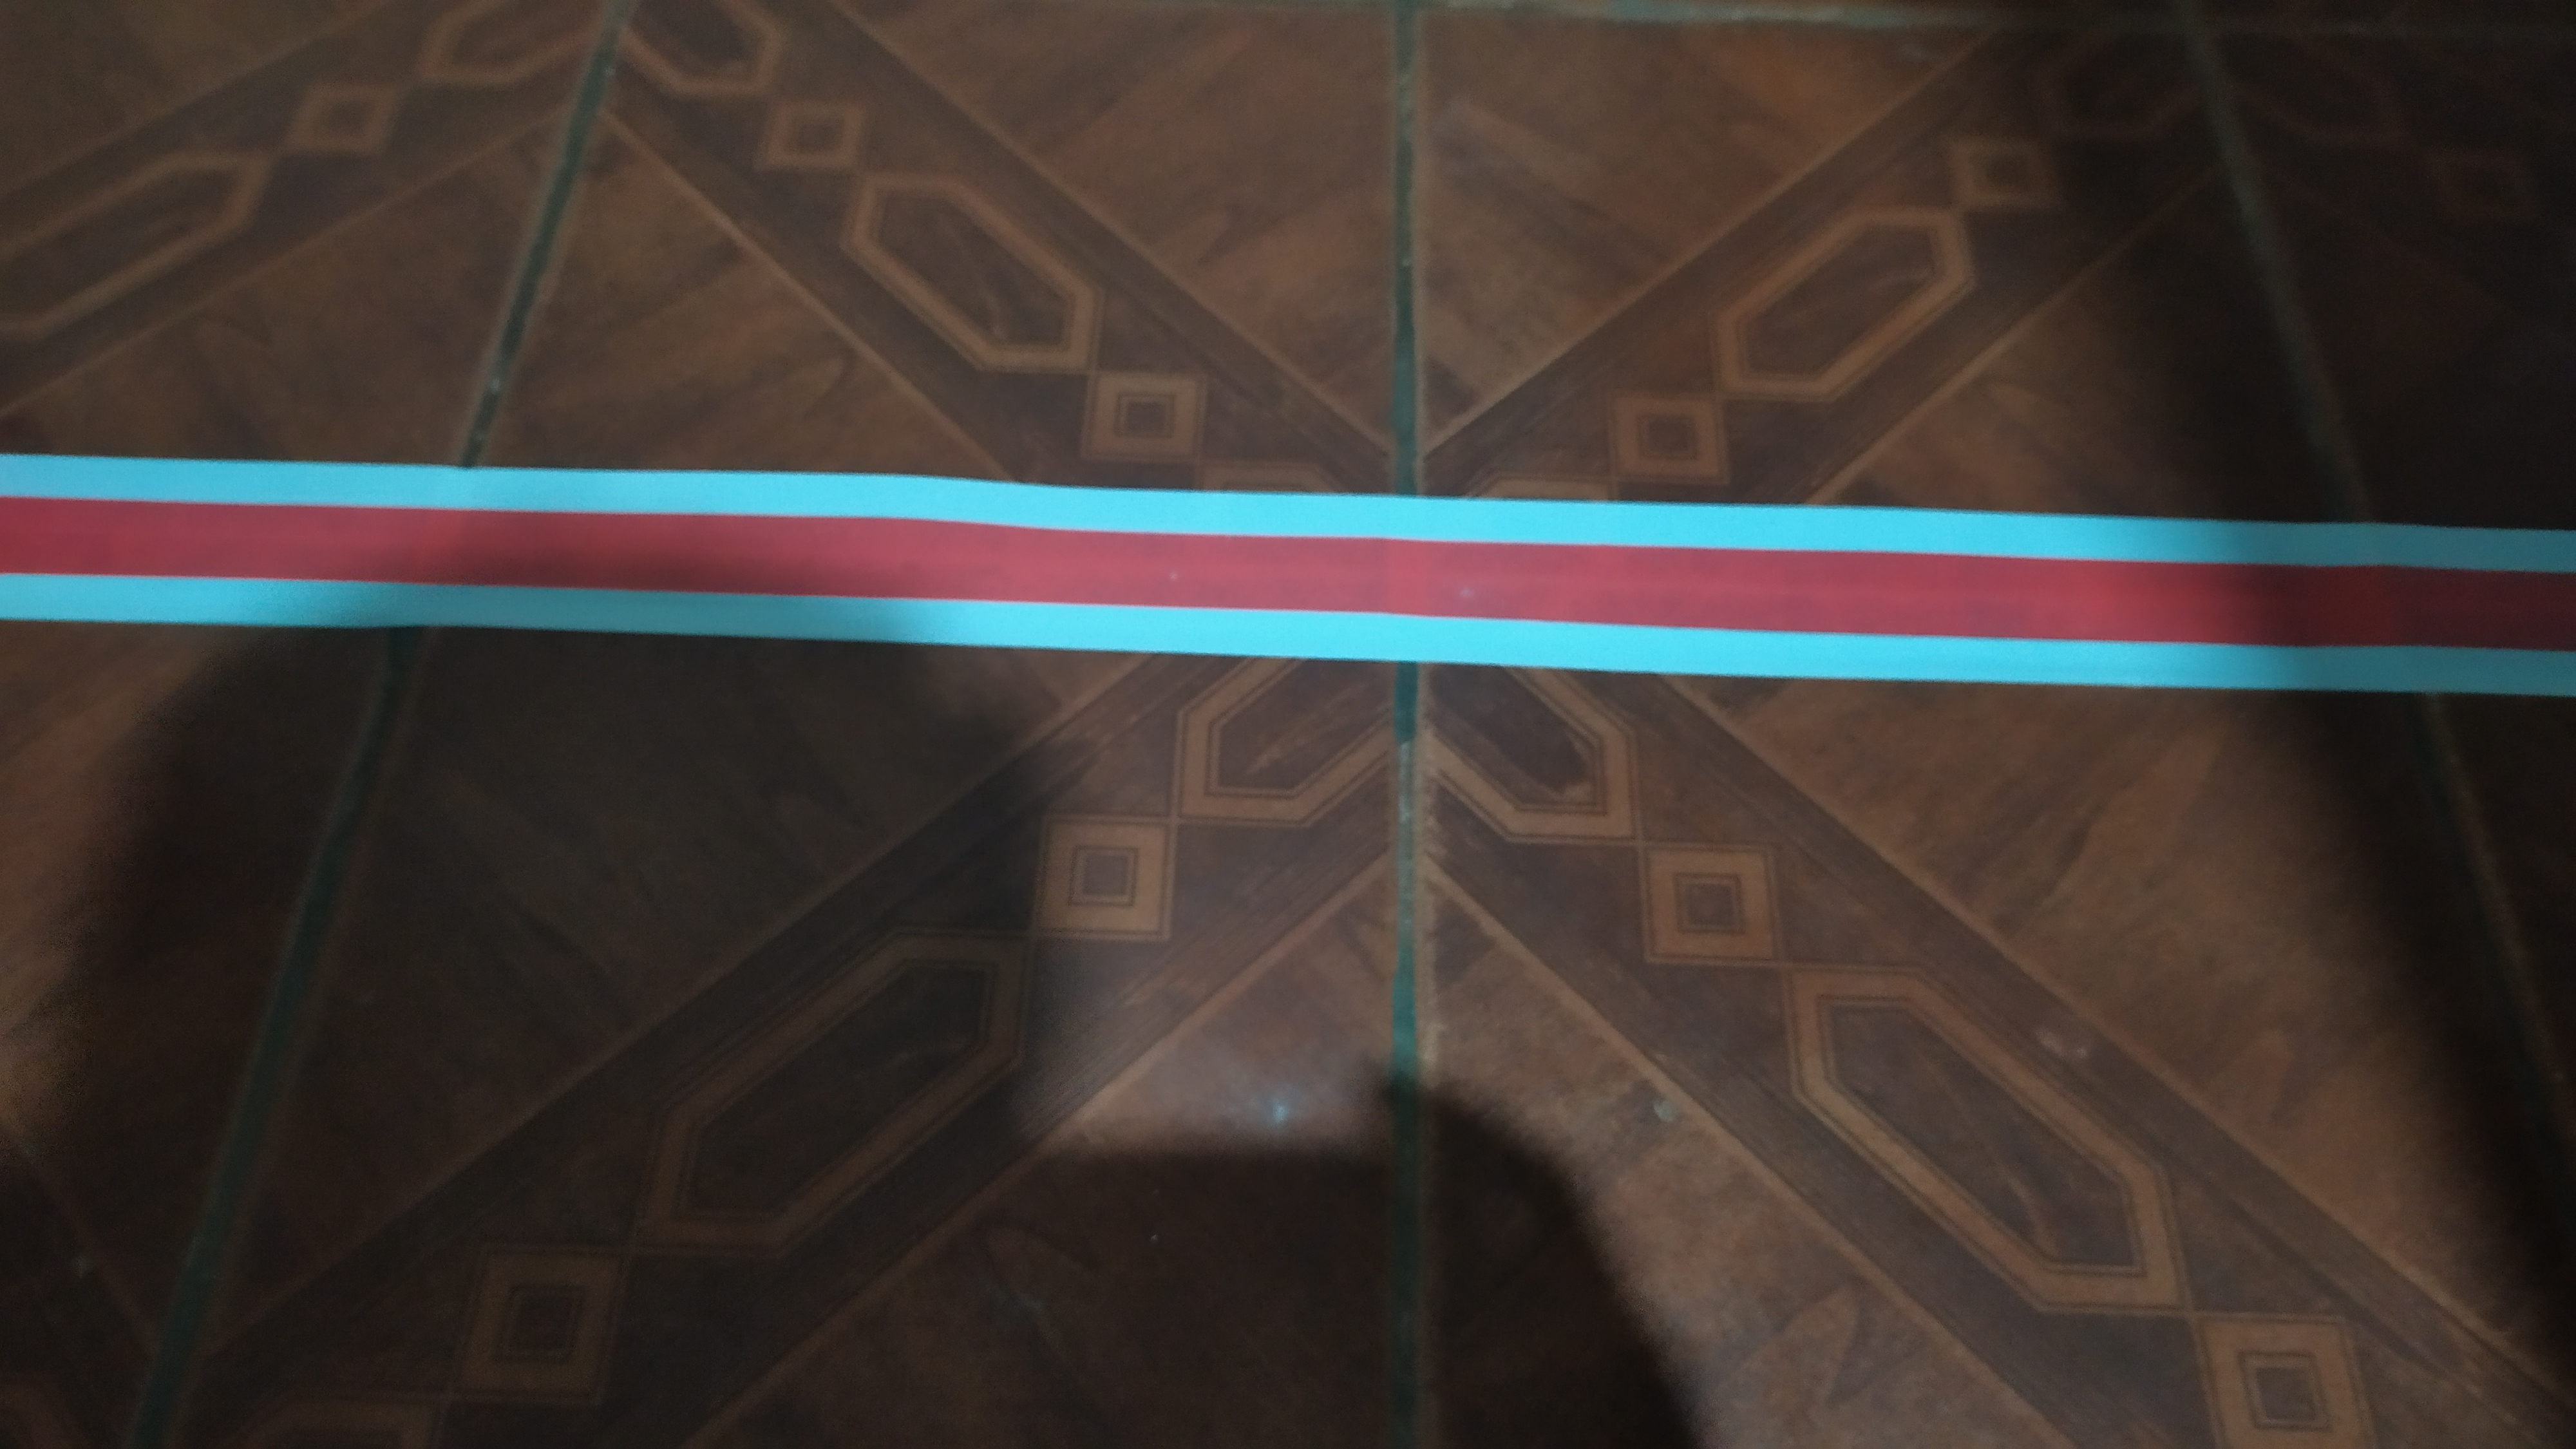faixa_reta: (14, 414, 2576, 694)
